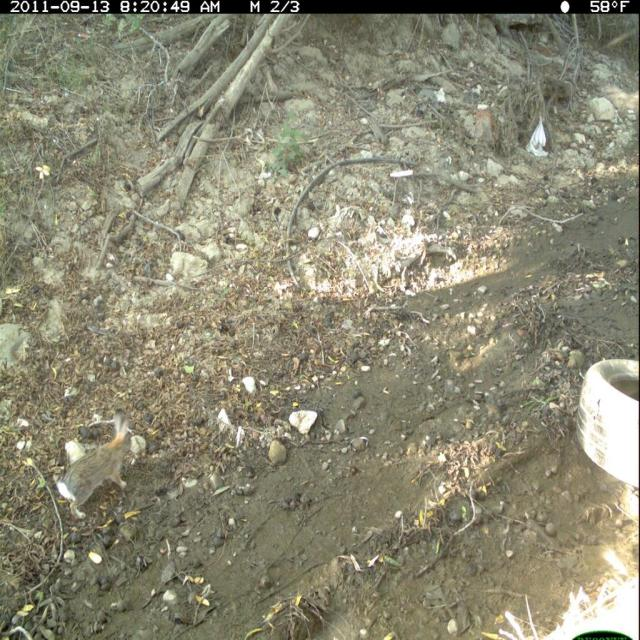rabbit: (52, 404, 146, 526)
